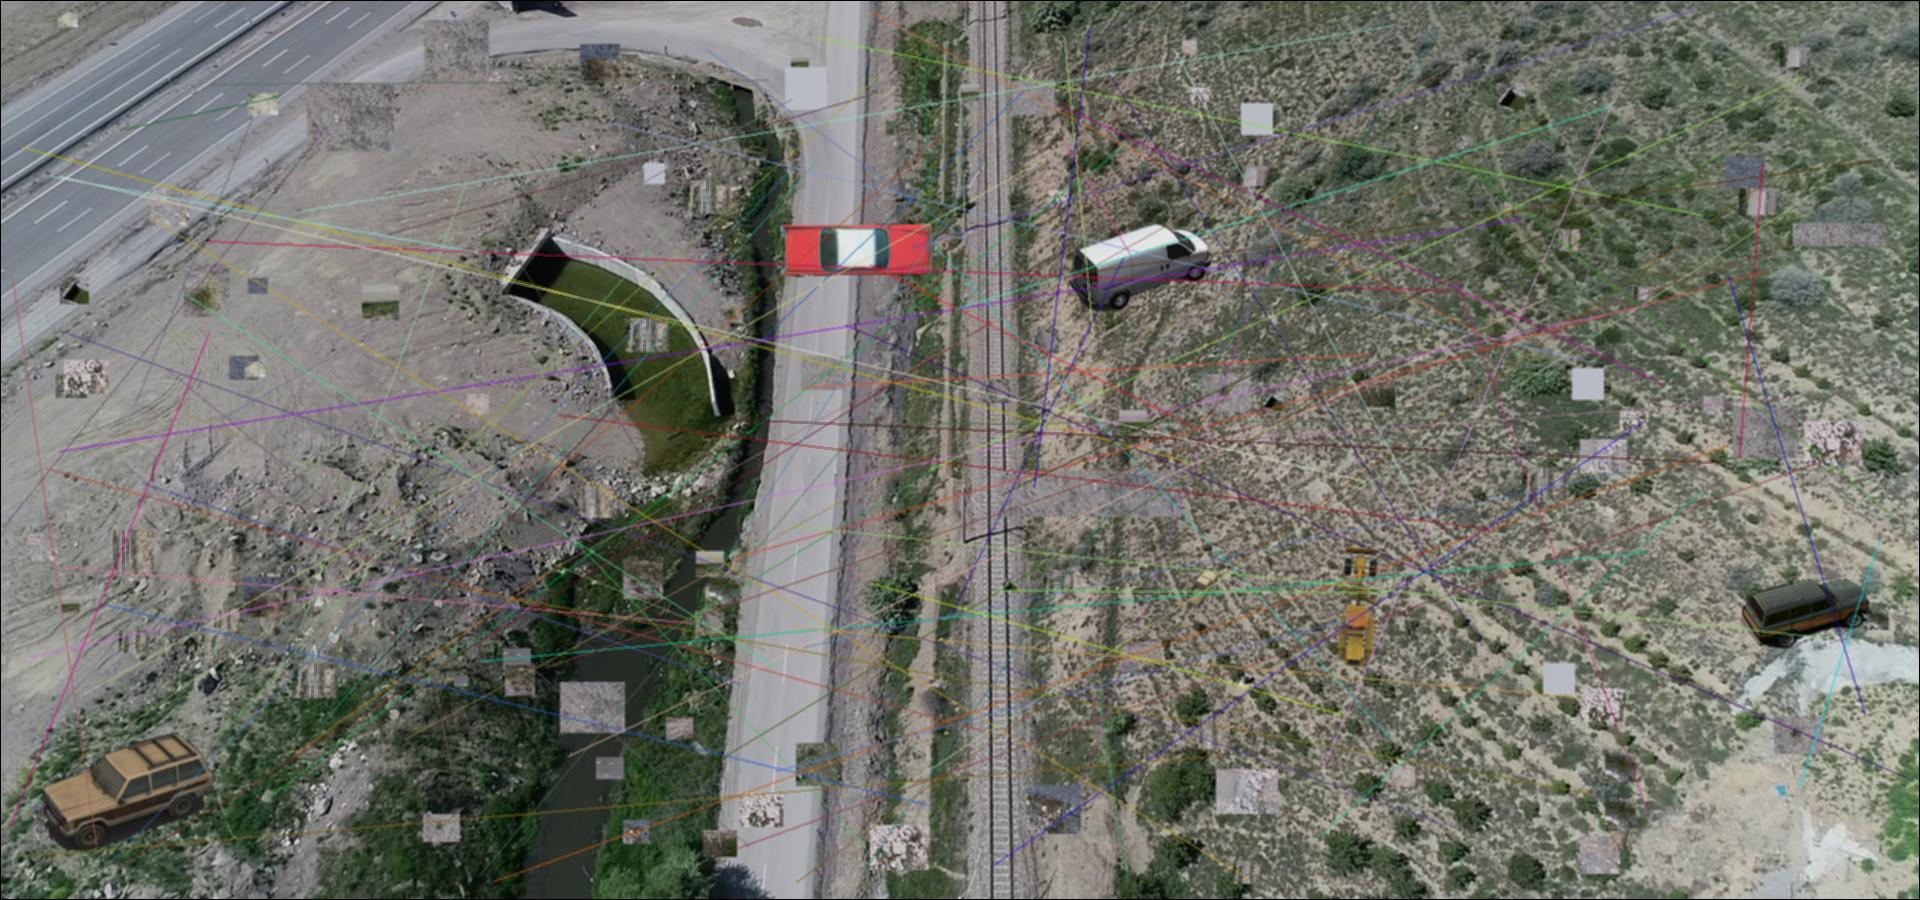arac: (43, 729, 216, 850), (1070, 220, 1211, 311), (778, 218, 936, 280), (1741, 579, 1872, 648), (1335, 544, 1381, 667), (1180, 568, 1221, 609)
